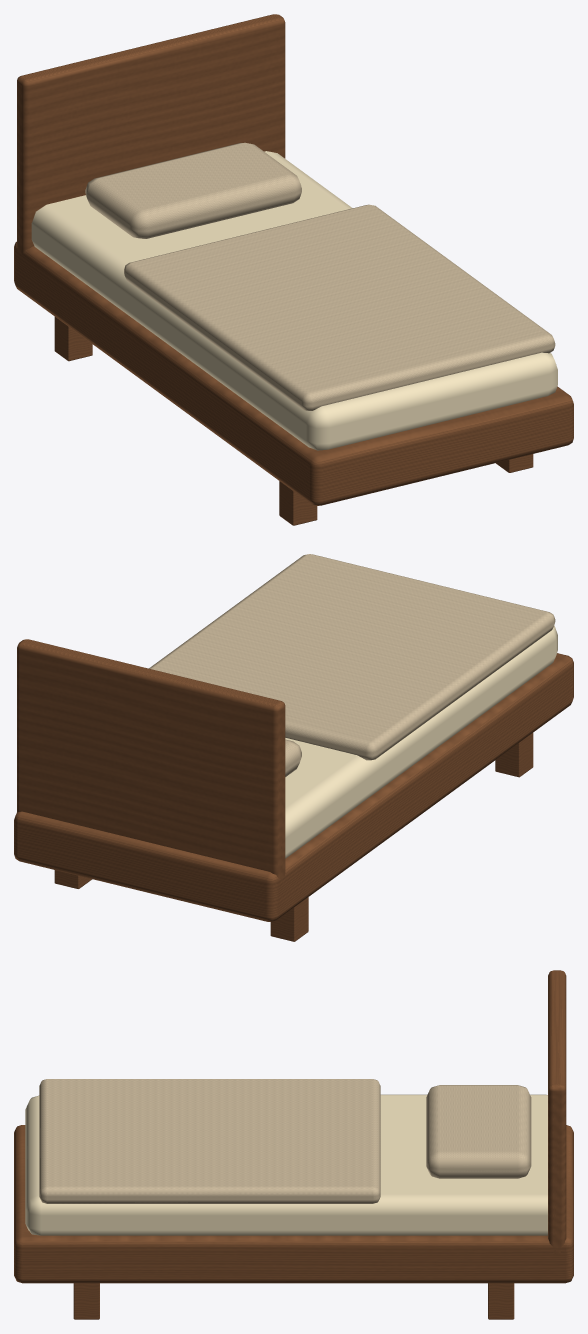
File: bed_single_engawa-d74aca4e39c1.glb
3 renders of one model, top to bottom at view 1: azimuth 30°, elevation 25°; view 2: azimuth 150°, elevation 25°; view 3: azimuth 270°, elevation 25°, orthographic. The views are drawn at different scales.
Parts seen in each view (by area): view 1: surface_walnut, surface_linen, surface_ivory; view 2: surface_walnut, surface_linen, surface_ivory; view 3: surface_linen, surface_walnut, surface_ivory.
Boxes of the visible parts, bbox=[...] form: surface_walnut: bbox=[14, 14, 573, 525]; surface_linen: bbox=[85, 142, 555, 410]; surface_ivory: bbox=[31, 151, 557, 450]; surface_walnut: bbox=[14, 639, 573, 941]; surface_linen: bbox=[149, 554, 555, 776]; surface_ivory: bbox=[285, 625, 557, 858]; surface_linen: bbox=[39, 1079, 531, 1203]; surface_walnut: bbox=[14, 970, 573, 1319]; surface_ivory: bbox=[25, 1094, 547, 1235].
Bounding box in the file's own units: 0.9859 × 0.925 × 1.97.
Materials: 3 (2 with a texture image).
